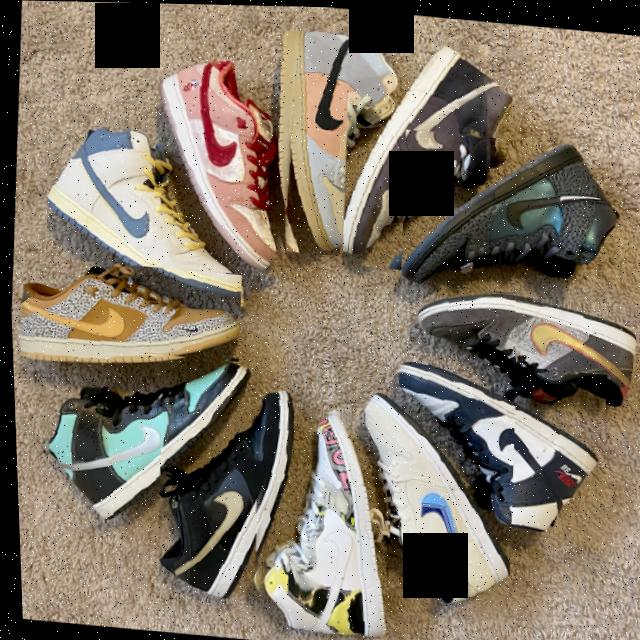shoe: (334, 30, 531, 278), (37, 112, 267, 308), (27, 343, 254, 537), (380, 352, 609, 544), (393, 127, 627, 303), (341, 385, 519, 615), (239, 400, 396, 637), (261, 18, 414, 260), (143, 47, 303, 277), (144, 371, 298, 609), (403, 285, 639, 416), (8, 255, 243, 377)
